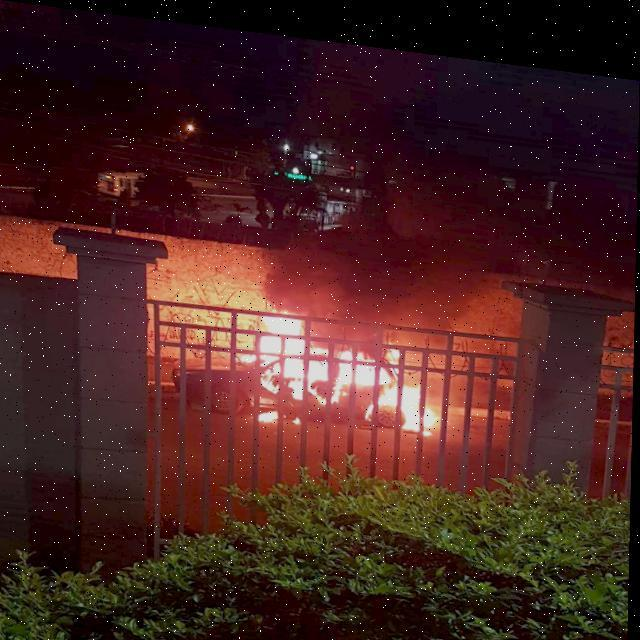Fire: (226, 301, 404, 401), (371, 367, 442, 427), (260, 402, 281, 416), (294, 408, 302, 418)
